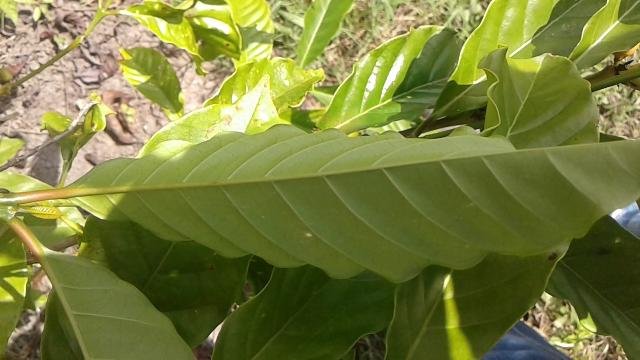healthy: (58, 122, 640, 284)
